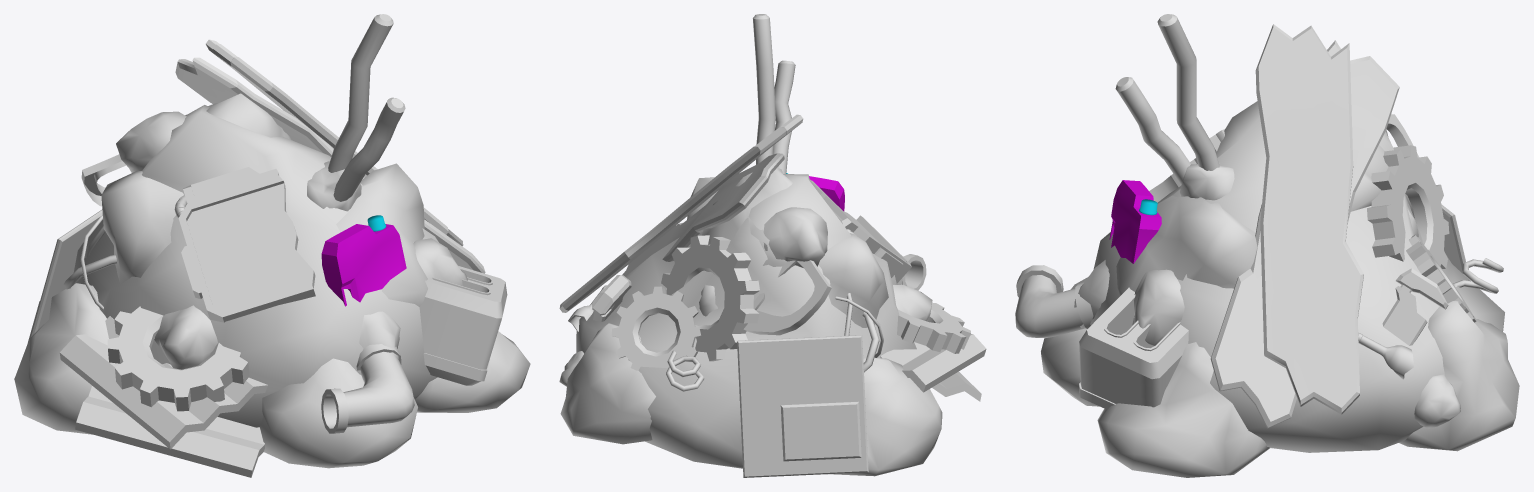
Rendered from Мусор.fbx.
3 views of the same model, side by side, from view 1: azimuth 30°, elevation 25°; view 2: azimuth 150°, elevation 25°; view 3: azimuth 270°, elevation 25° (orthographic). The views are drawn at different scales.
Visible parts, largest first — view 1: Icosphere.015; view 2: Icosphere.015; view 3: Icosphere.015.
Boxes of the visible parts, <box> form: Icosphere.015: <box>14,14,530,477</box>; Icosphere.015: <box>559,14,986,477</box>; Icosphere.015: <box>1015,14,1519,477</box>.
Size of the model in its own units: 322 by 324 by 287.
